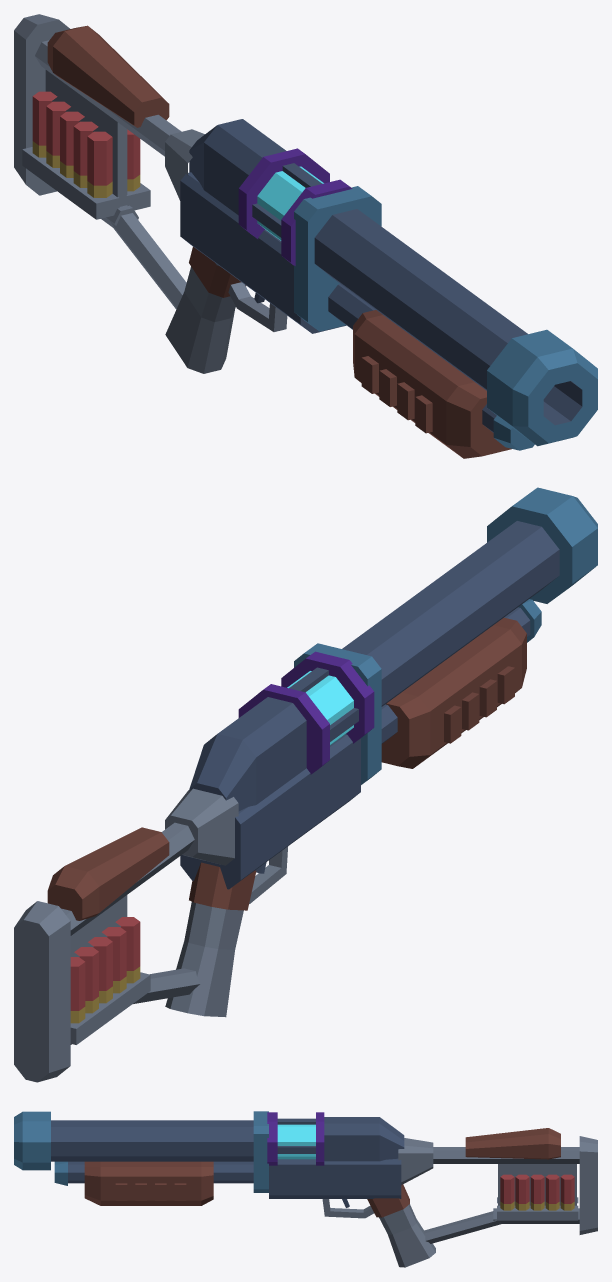
File: scattergun.glb
The picture shows the model from 3 angles, top to bottom: view 1: azimuth 30°, elevation 25°; view 2: azimuth 150°, elevation 25°; view 3: azimuth 270°, elevation 25°; orthographic projection. The views are drawn at different scales.
Visible parts, largest first — view 1: scattergun-metal, scattergun-matte, forend-matte, scattergun-crystal; view 2: scattergun-metal, scattergun-matte, forend-matte, scattergun-crystal; view 3: scattergun-metal, forend-matte, scattergun-matte, scattergun-crystal.
Part boxes in pixels (x1,y1,x2,y2): scattergun-metal: (14,14,597,450); scattergun-matte: (32,25,246,297); forend-matte: (353,310,511,458); scattergun-crystal: (257,166,323,240); scattergun-metal: (14,487,597,1082); scattergun-matte: (47,827,256,1010); forend-matte: (381,617,526,768); scattergun-crystal: (287,671,353,745); scattergun-metal: (14,1111,597,1267); forend-matte: (84,1161,213,1205); scattergun-matte: (367,1128,574,1217); scattergun-crystal: (277,1124,315,1159).
Bounding box in the file's own units: 0.092 × 0.2662 × 0.95.
